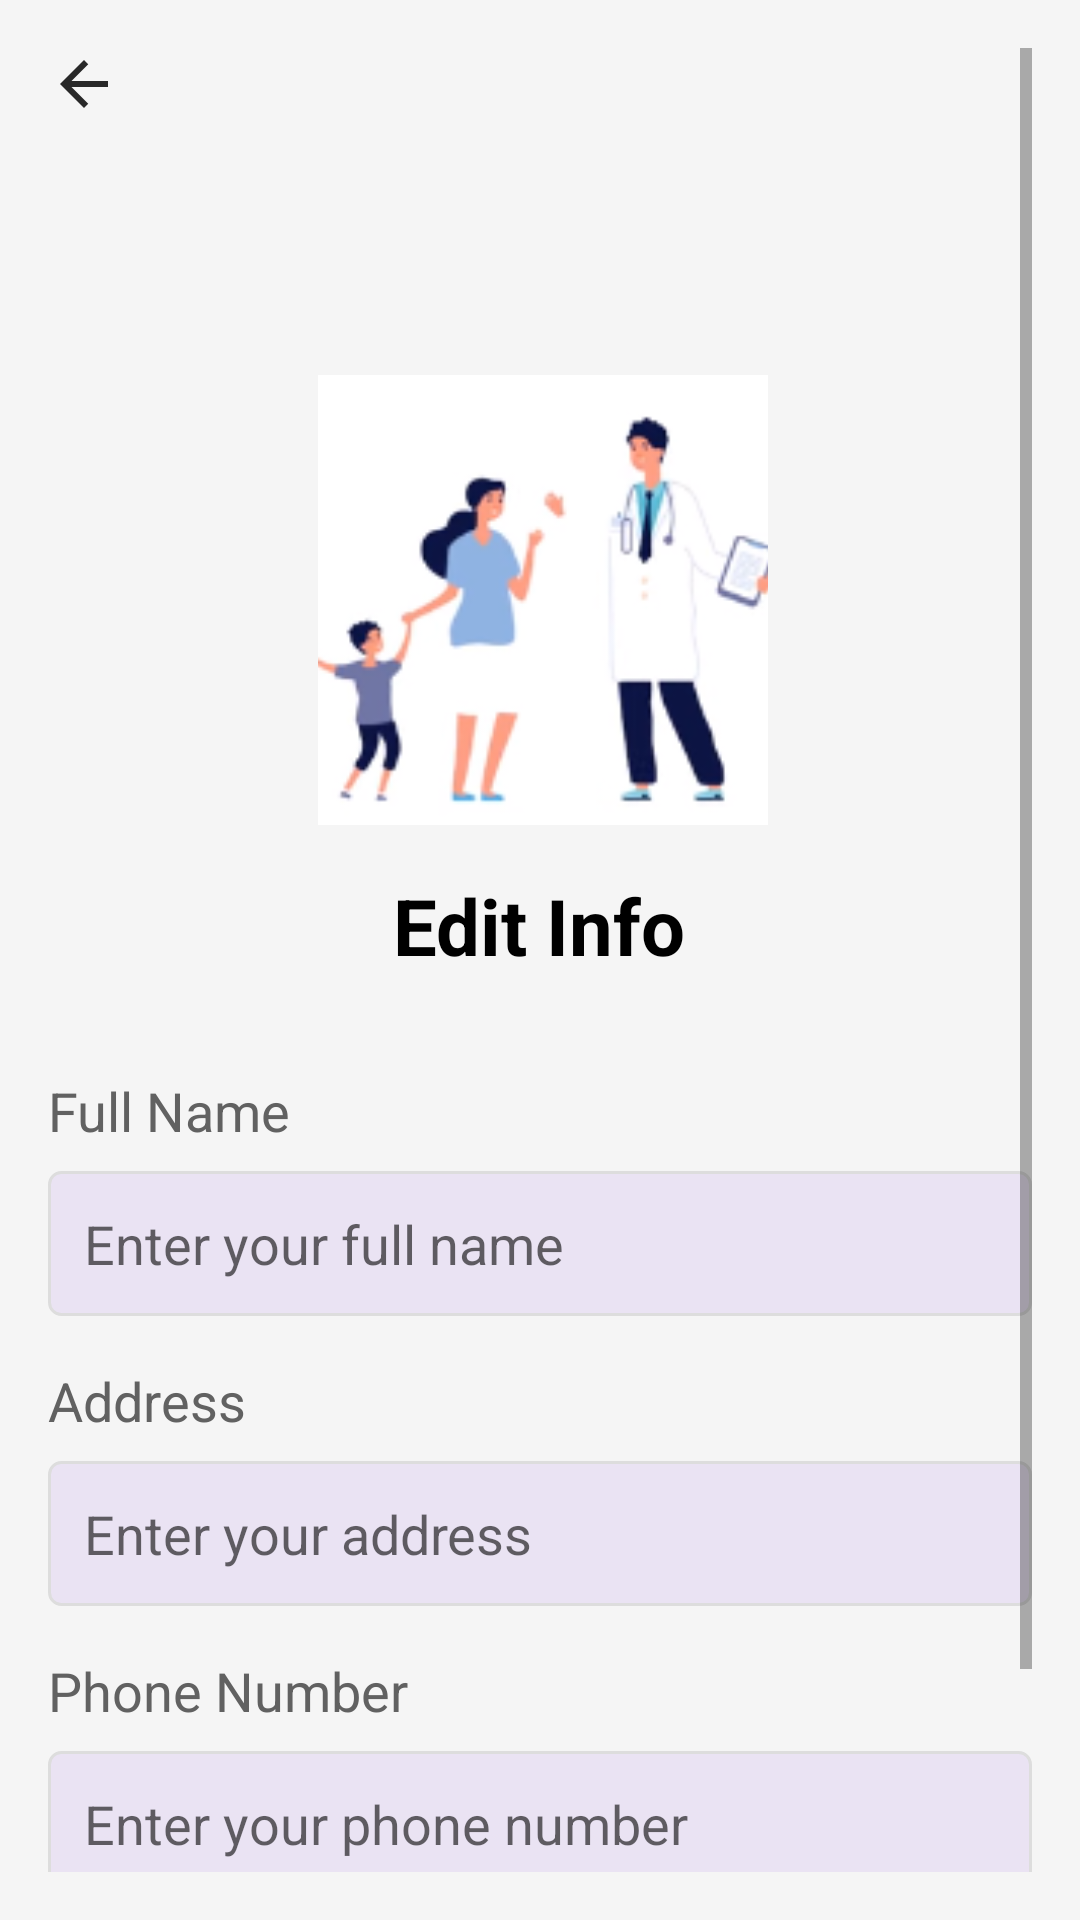

Screen size 1080 × 1920. Icon name, then its box in pixels as {"x1": x1, "y1": y1, "x2": x2, "y2": y2}:
back arrow: {"x1": 60, "y1": 60, "x2": 108, "y2": 108}
